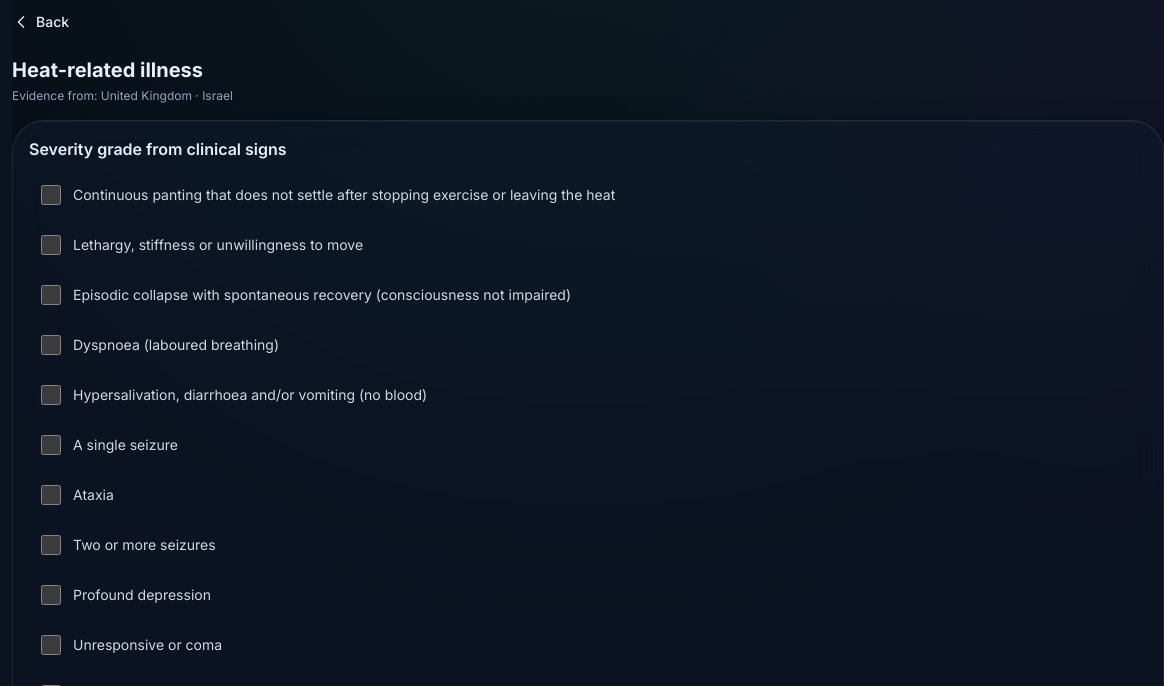
Test: heat-related illness › says the figures are cohort observations, not a prediction
This screenshot has width=1164, height=686.
Click the checkbox labelled "Lethargy, stiffness or unwillingness to move" at (51, 245), box [41, 235, 61, 255]
(page scrolled)
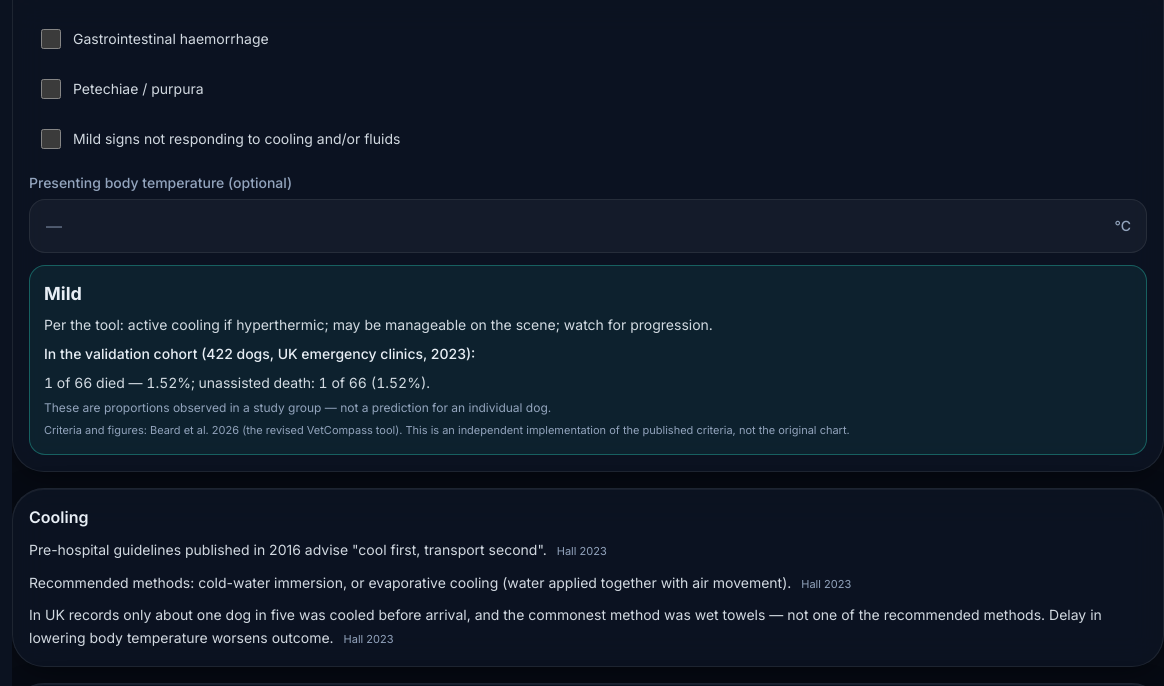
Expected: the message shows "not a prediction", [44, 400, 551, 415]
